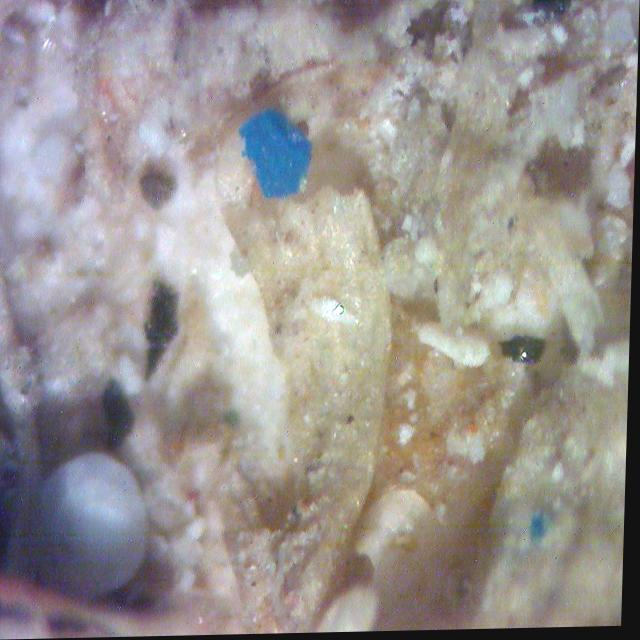microplastic: (236, 100, 324, 206)
